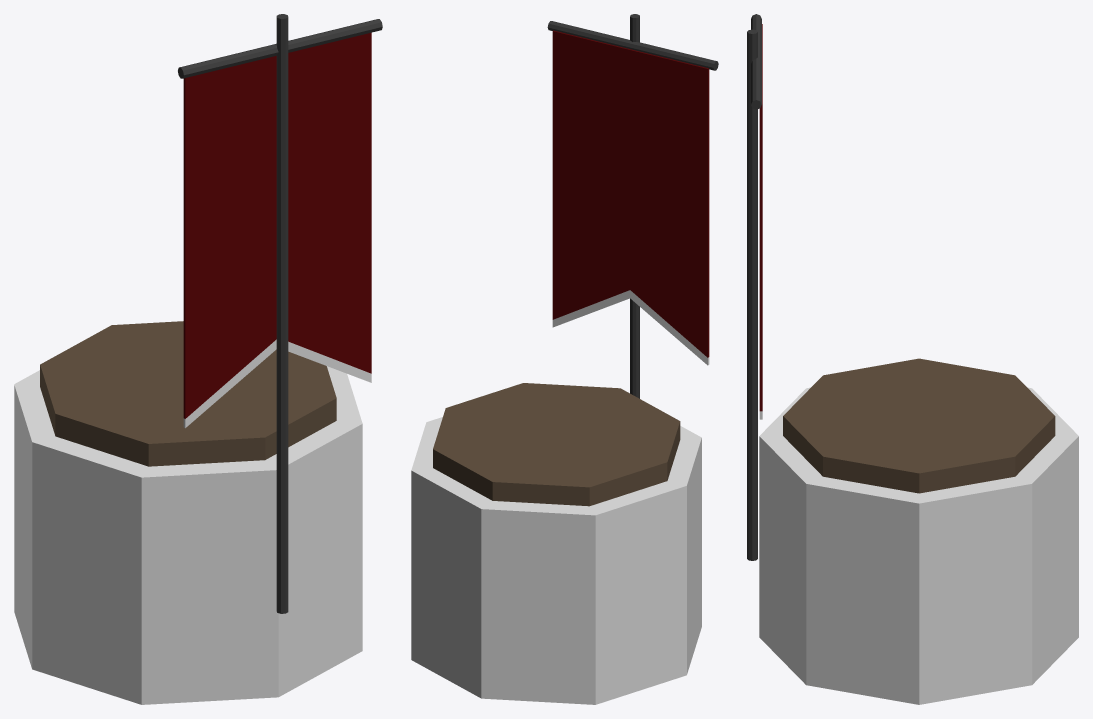
The model's file is Finish.fbx.
The picture shows the model from 3 angles, left to right: view 1: azimuth 30°, elevation 25°; view 2: azimuth 150°, elevation 25°; view 3: azimuth 270°, elevation 25°; orthographic projection. The views are drawn at different scales.
Visible parts, largest first — view 1: Цилиндр; view 2: Цилиндр; view 3: Цилиндр.
Boxes of the visible parts, left/top/right/bottom form: Цилиндр: left=14, top=14, right=382, bottom=704; Цилиндр: left=411, top=14, right=718, bottom=704; Цилиндр: left=747, top=14, right=1078, bottom=704.
Size of the model in its own units: 203 by 425 by 211.
